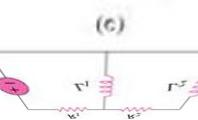inductor: (93, 72, 118, 100)
